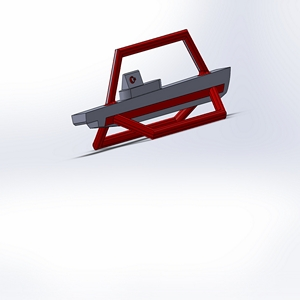submarine: (66, 21, 255, 167)
